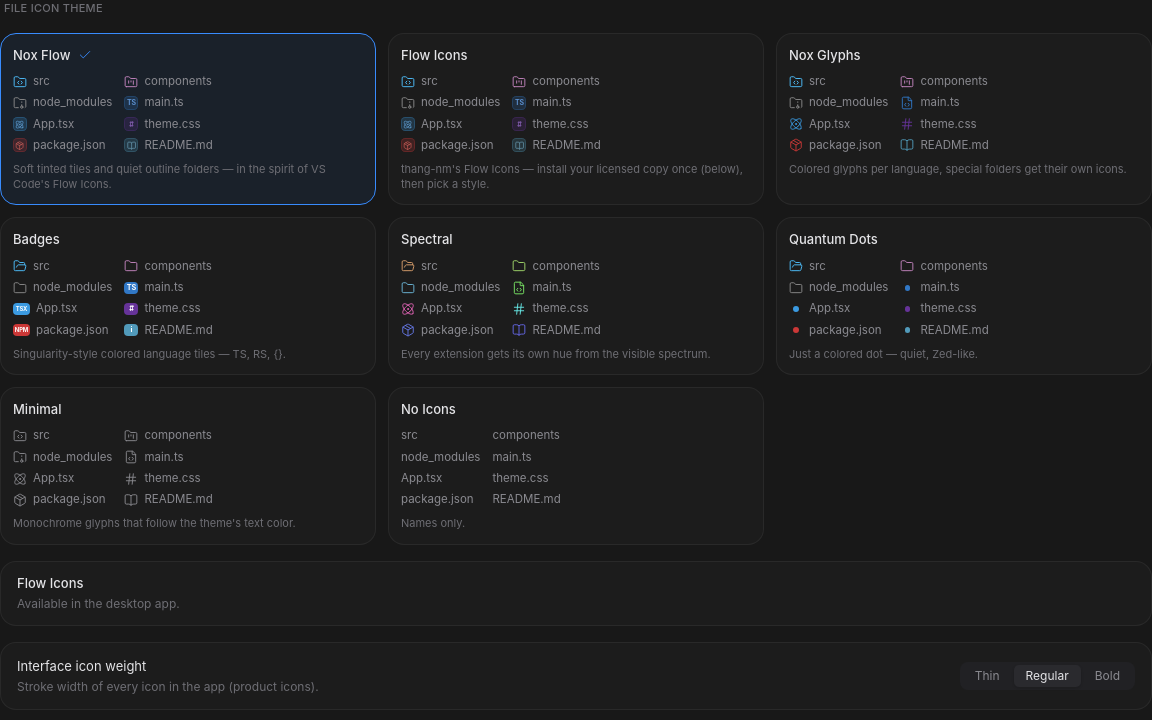
Scenario: Icon settings › switches icon theme and adds a custom rule
Click the button with test id "icon-theme-card" that starts with "Badges".
click(36, 239)  # box [0,217,376,375]
(page scrolled)
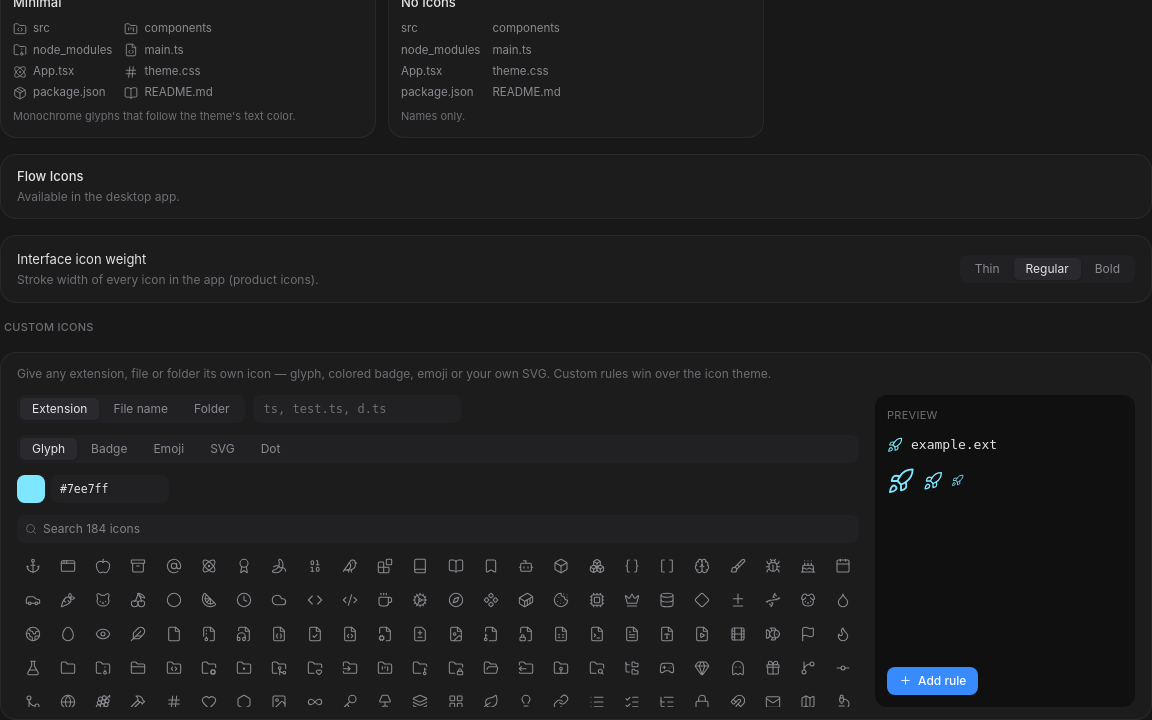
Type "proto" into the field named "Pattern".
click(357, 408); type("proto")  # box [253,394,461,422]
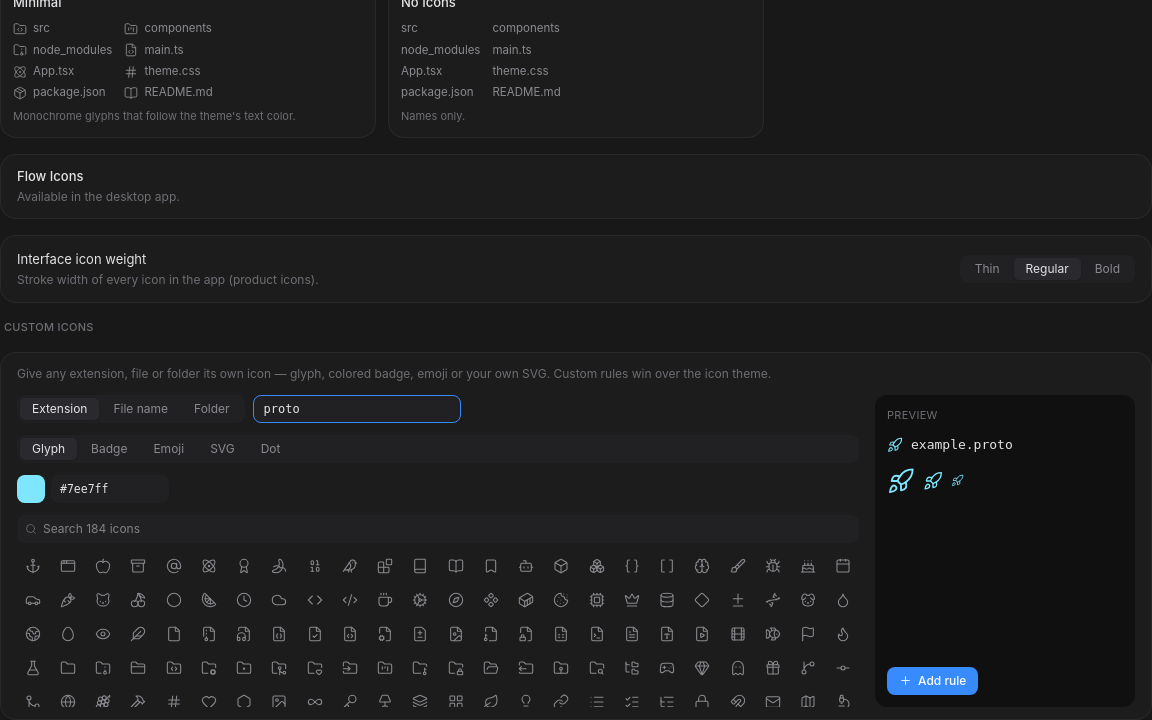
Click the radio button labelled "Emoji".
click(169, 448)  # box [141,438,196,460]
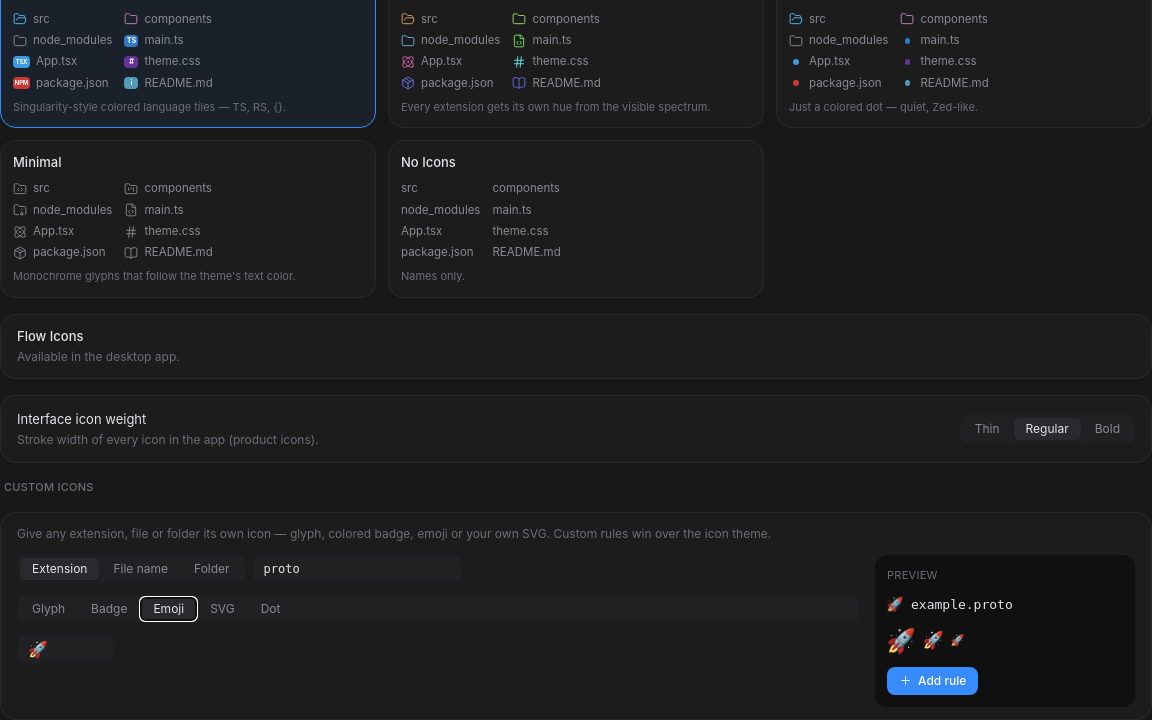
Replace the text in the field named "Emoji" with "🛰" at (65, 648), box [17,634,113,662]
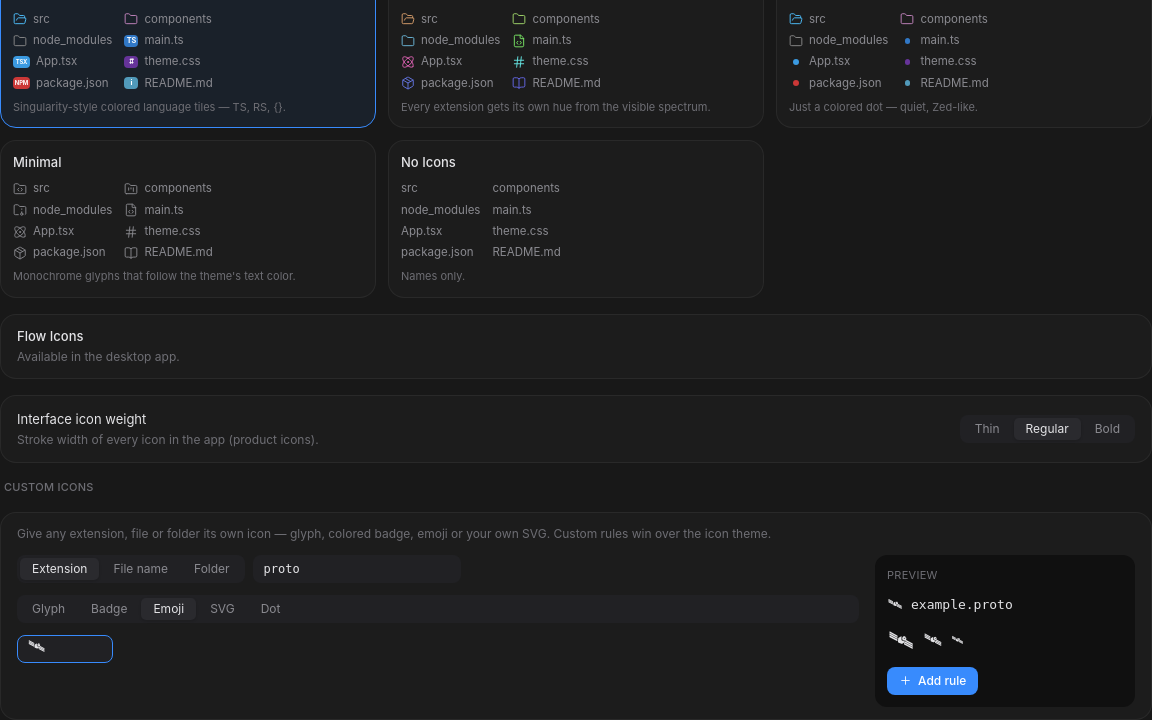
Click the button "Add rule".
click(933, 680)  # box [887,666,978,694]
(page scrolled)
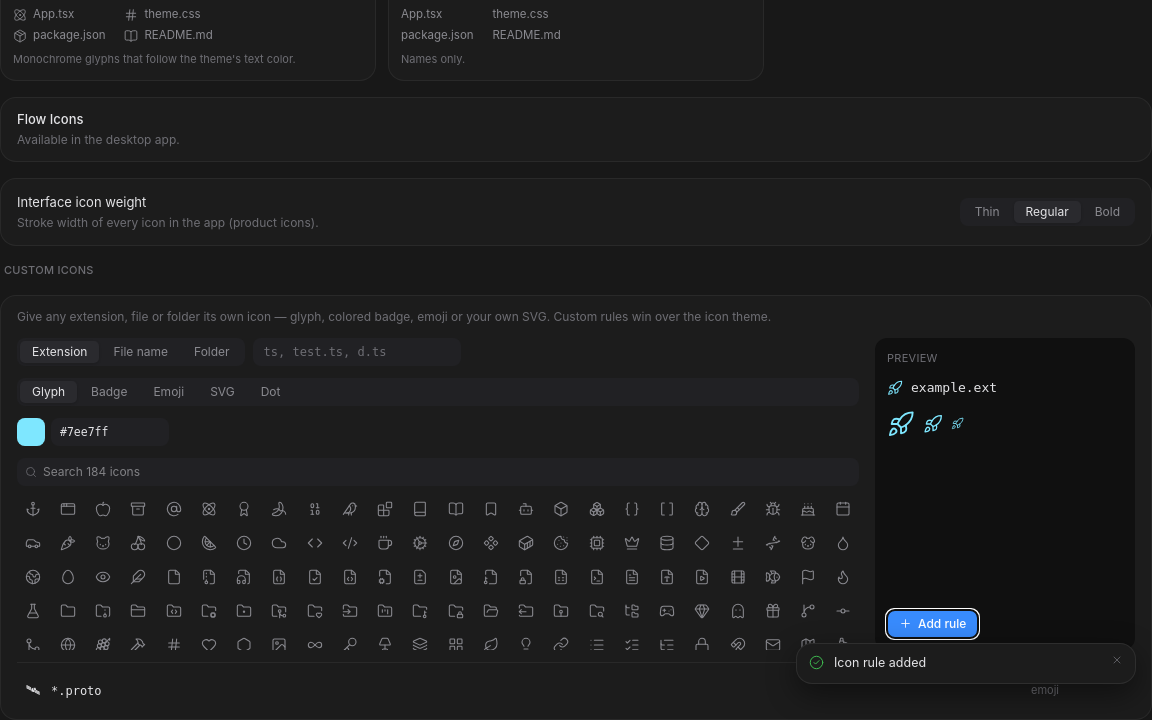
Result: the element with test id "icon-rules" shows "*.proto" at [51,684,102,698]
